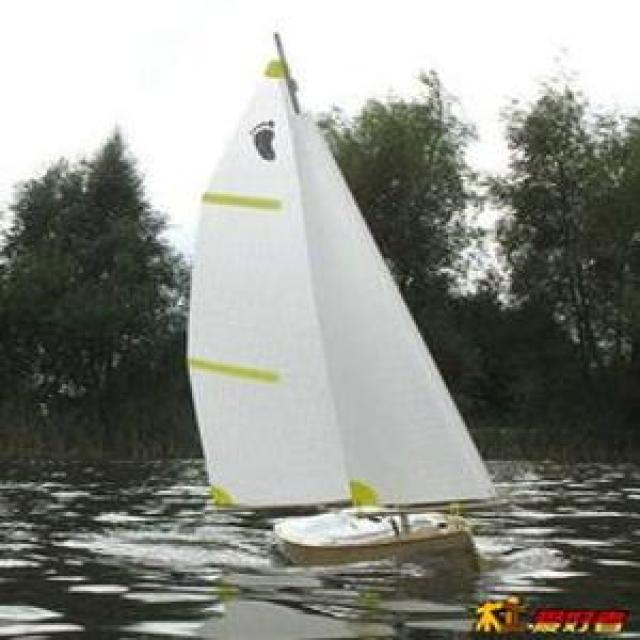sailboat: (184, 26, 501, 549)
